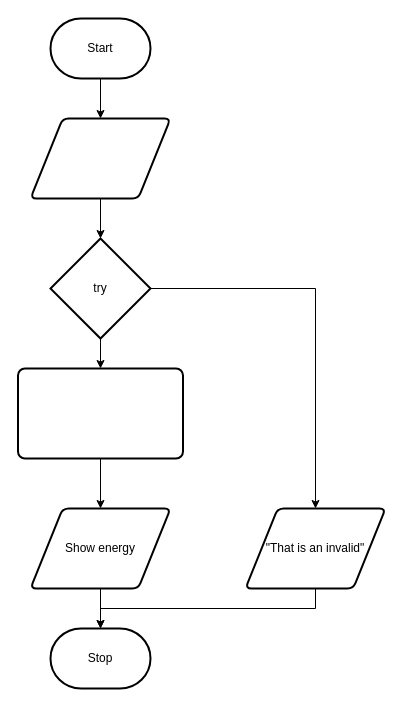
Some shapes in this 404 by 706 pixel diagram are drawn without their labels. Here are the shapes that lost their labels. From the top down, the box of each, then its label:
(29, 117, 171, 199): Enter matter_mass
(16, 367, 184, 459): energy = matter_mass * (speed_of_light) ^ 2
